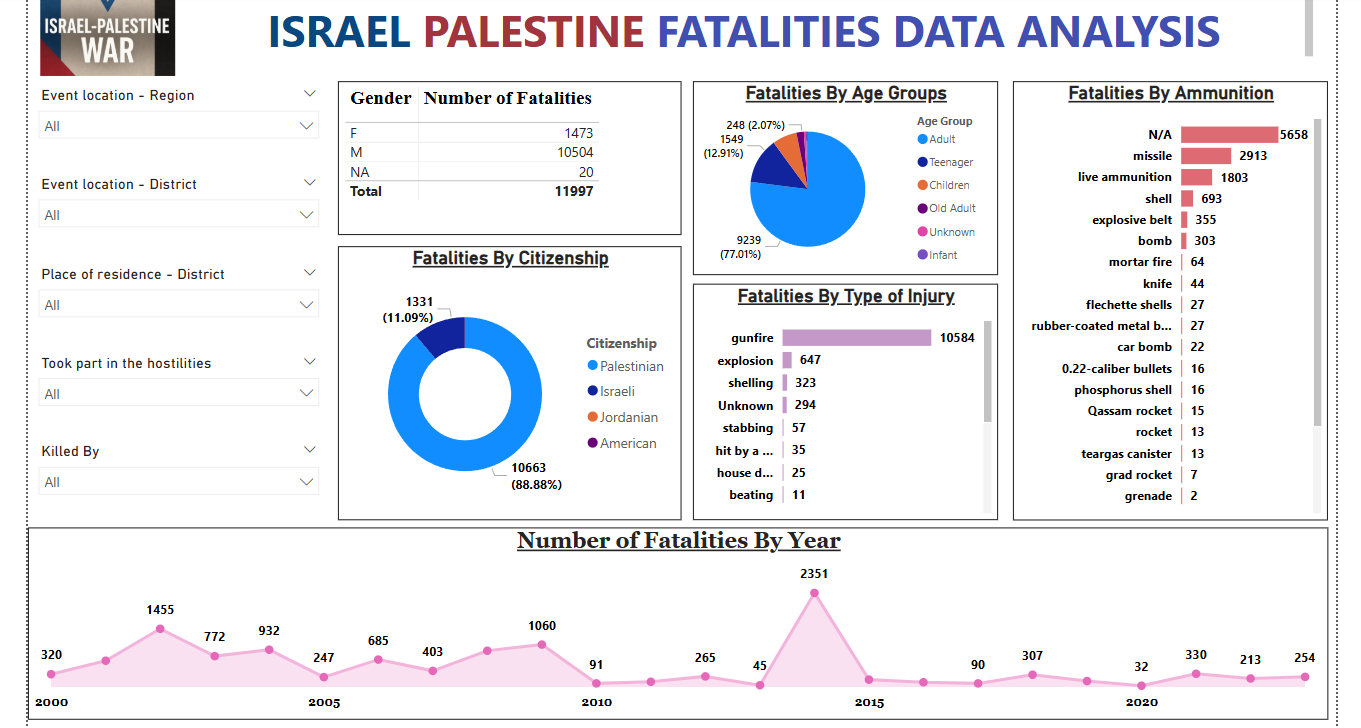

This screenshot's page, from the dashboard's own definition file:
{"tool":"powerbi","page":{"name":"Page 1","canvas":[1280,720],"ordinal":0},"visuals":[{"type":"image","box":[0,0,156.5,84.4],"z":0},{"type":"textbox","box":[146.7,0,1115.2,66],"z":1000},{"type":"slicer","fields":{"Values":["Dataset.Event location - Region"]},"box":[0,84.4,294.7,63.6],"z":2000},{"type":"slicer","fields":{"Values":["Dataset.Event location - District"]},"box":[0,171.5,294.7,63.6],"z":3000},{"type":"slicer","fields":{"Values":["Dataset.Place of residence - District"]},"box":[0,258.6,294.7,63.6],"z":4000},{"type":"slicer","fields":{"Values":["Dataset.Took part in the hostilities"]},"box":[0,345.8,294.7,63.6],"z":5000},{"type":"slicer","fields":{"Values":["Dataset. Killed By"]},"box":[0,432.9,294.7,63.6],"z":6000},{"type":"areaChart","title":"Number of Fatalities By Year","fields":{"Category":["Dataset.Date of death.Variation.Date Hierarchy.Year","Dataset.Date of death.Variation.Date Hierarchy.Quarter","Dataset.Date of death.Variation.Date Hierarchy.Month","Dataset.Date of death.Variation.Date Hierarchy.Day"],"Y":["CountNonNull(Dataset.ID)"]},"box":[0,520.9,1271.7,188.3],"z":7000},{"type":"tableEx","fields":{"Values":["Dataset.Gender","Dataset.ID"]},"box":[303.3,84.4,336.3,150.4],"z":8000},{"type":"donutChart","title":"Fatalities By Citizenship","fields":{"Category":["Dataset.Citizenship"],"Y":["CountNonNull(Dataset.ID)"]},"box":[303.3,245.8,336.3,267.8],"z":9000},{"type":"pieChart","title":"Fatalities By Age Groups","fields":{"Category":["Dataset.Age Group"],"Y":["CountNonNull(Dataset.ID)"]},"box":[650.5,84.4,298.4,189.5],"z":10000},{"type":"barChart","title":"Fatalities By Type of Injury","fields":{"Y":["CountNonNull(Dataset.ID)"],"Category":["Dataset.Type of injury"]},"box":[650.5,282.5,298.4,231.1],"z":11000},{"type":"barChart","title":"Fatalities By Ammunition","fields":{"Y":["CountNonNull(Dataset.ID)"],"Category":["Dataset.Ammunition"]},"box":[963.6,84.4,308.2,429.2],"z":11001}]}

Visuals, with their boxes in screenshot pixels (x1, y1, x2, y2):
image: Rect(21, 0, 183, 73)
textbox: Rect(173, 0, 1323, 54)
slicer - Dataset.Event location - Region: Rect(21, 73, 325, 139)
slicer - Dataset.Event location - District: Rect(21, 163, 325, 228)
slicer - Dataset.Place of residence - District: Rect(21, 253, 325, 318)
slicer - Dataset.Took part in the hostilities: Rect(21, 343, 325, 408)
slicer - Dataset. Killed By: Rect(21, 432, 325, 498)
"Number of Fatalities By Year" areaChart: Rect(21, 523, 1333, 718)
tableEx - Dataset.Gender x Dataset.ID: Rect(334, 73, 681, 228)
"Fatalities By Citizenship" donutChart: Rect(334, 239, 681, 516)
"Fatalities By Age Groups" pieChart: Rect(692, 73, 1000, 268)
"Fatalities By Type of Injury" barChart: Rect(692, 277, 1000, 516)
"Fatalities By Ammunition" barChart: Rect(1015, 73, 1333, 516)
